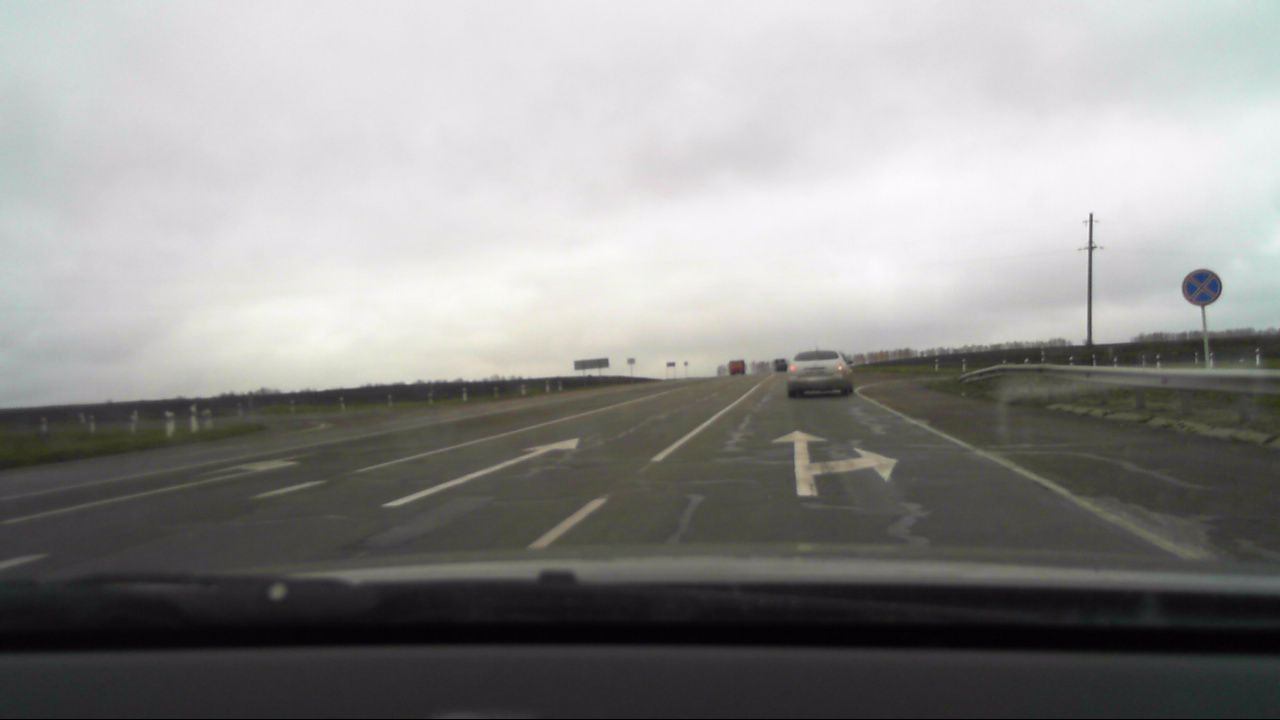No Parking: (1183, 267, 1221, 307)
